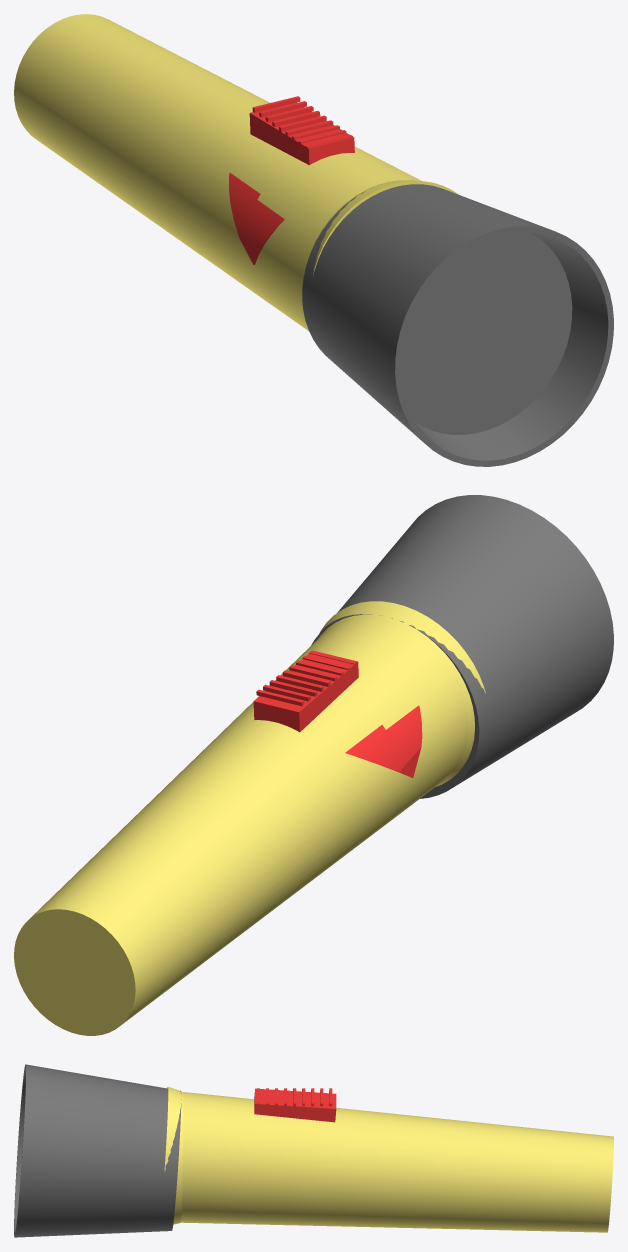
The picture shows the model from 3 angles, top to bottom: view 1: azimuth 30°, elevation 25°; view 2: azimuth 150°, elevation 25°; view 3: azimuth 270°, elevation 25°; orthographic projection. The views are drawn at different scales.
Visible parts, largest first — view 1: head_shell, tube, slider, curved_base, collar; view 2: tube, head_shell, collar, slider, curved_base; view 3: tube, head_shell, slider, collar.
Boxes of the visible parts, x1,y1,x2,y2 form: head_shell: (302,180,613,466); tube: (14,14,421,330); slider: (249,102,354,165); curved_base: (229,173,284,264); collar: (311,180,458,275); tube: (14,616,468,1035); head_shell: (311,495,613,798); collar: (318,601,485,786); slider: (253,650,358,732); curved_base: (345,705,422,777); tube: (180,1092,613,1232); head_shell: (14,1064,181,1237); slider: (254,1088,336,1122); collar: (164,1086,183,1224).
Bounding box in the file's own units: 0.0576 × 0.0574 × 0.199.
